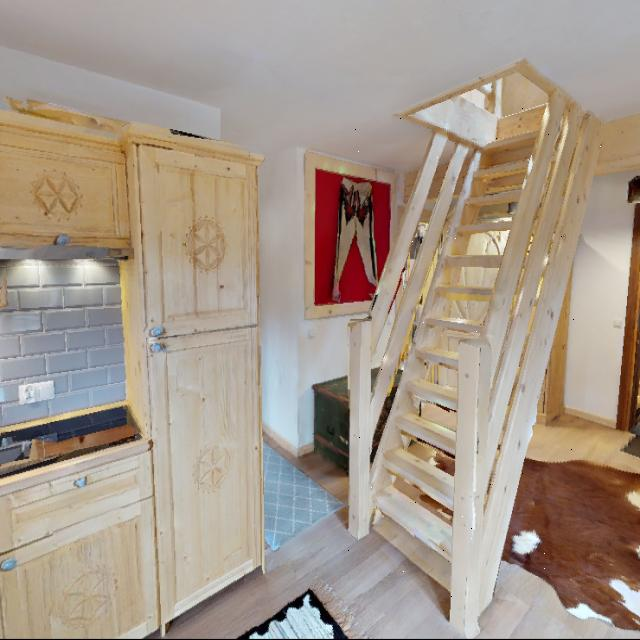stairs: (344, 104, 602, 610)
